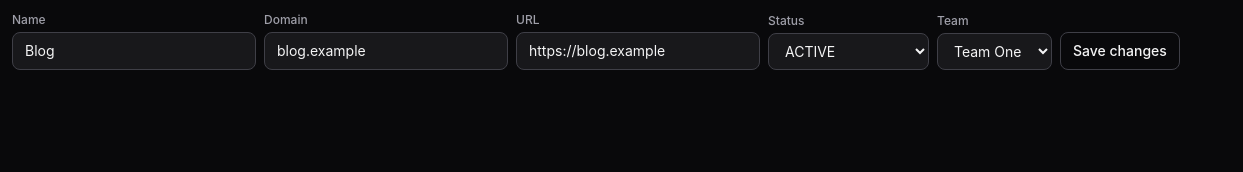
Test case: EditWebsiteForm › omits teamId from the payload when no team is selected
This screenshot has width=1243, height=172.
What coordinates should you click on to do the following:
click the button "Save changes"
I would click on:
 (1120, 51)
Its box is [1060,32,1180,70].
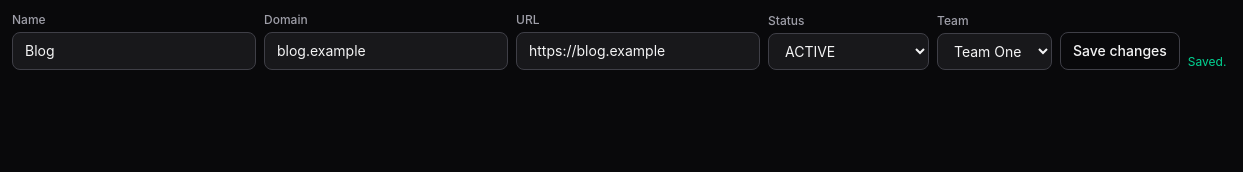
Check: the text "Saved." is shown, box [1188,54,1226,70]
